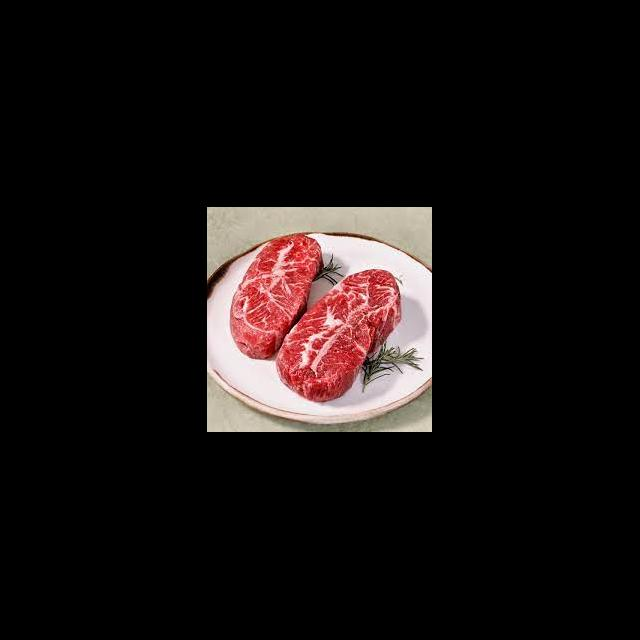beef: (277, 263, 401, 404), (227, 233, 328, 360)
